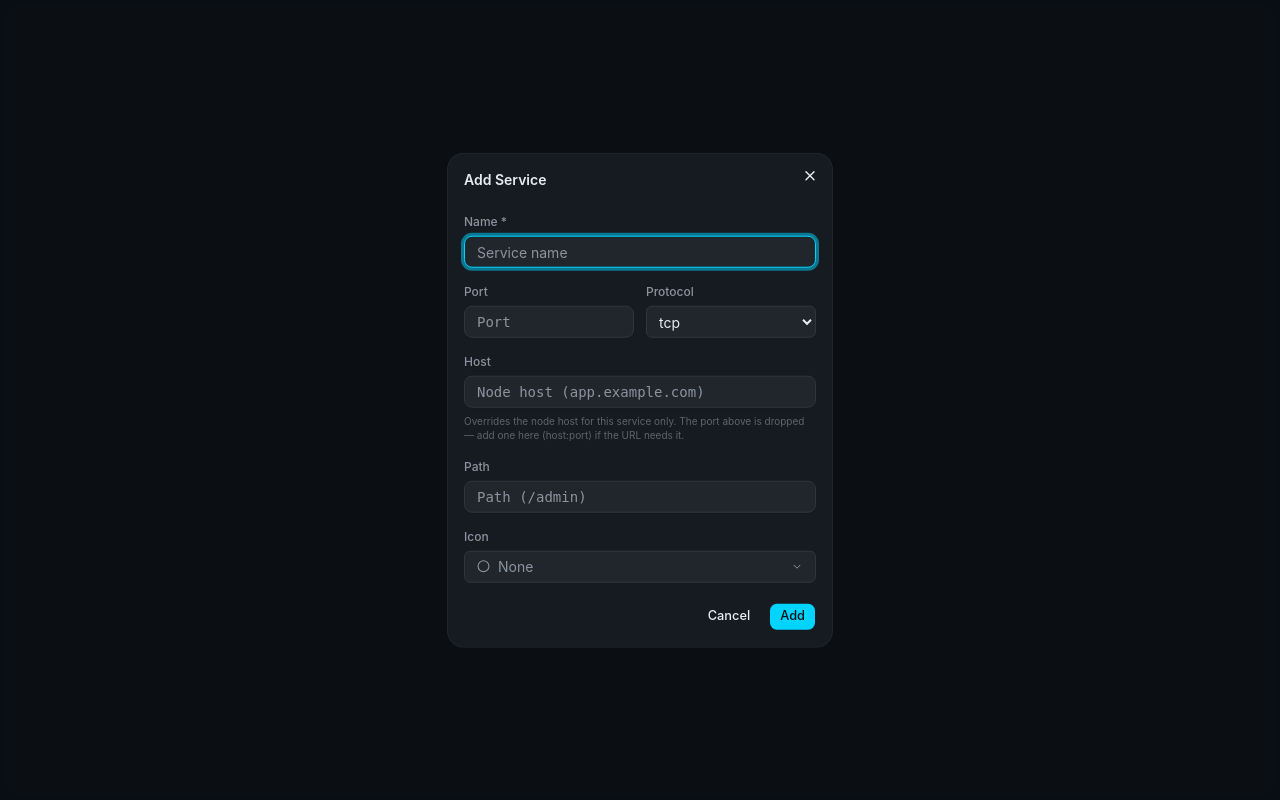
ServiceModal › form submission › clamps an out-of-range port on blur
The width and height of the screenshot is (1280, 800).
Step 1. Type "99999" into the field with placeholder "Port" → (549, 322), box [464,306,634,338]
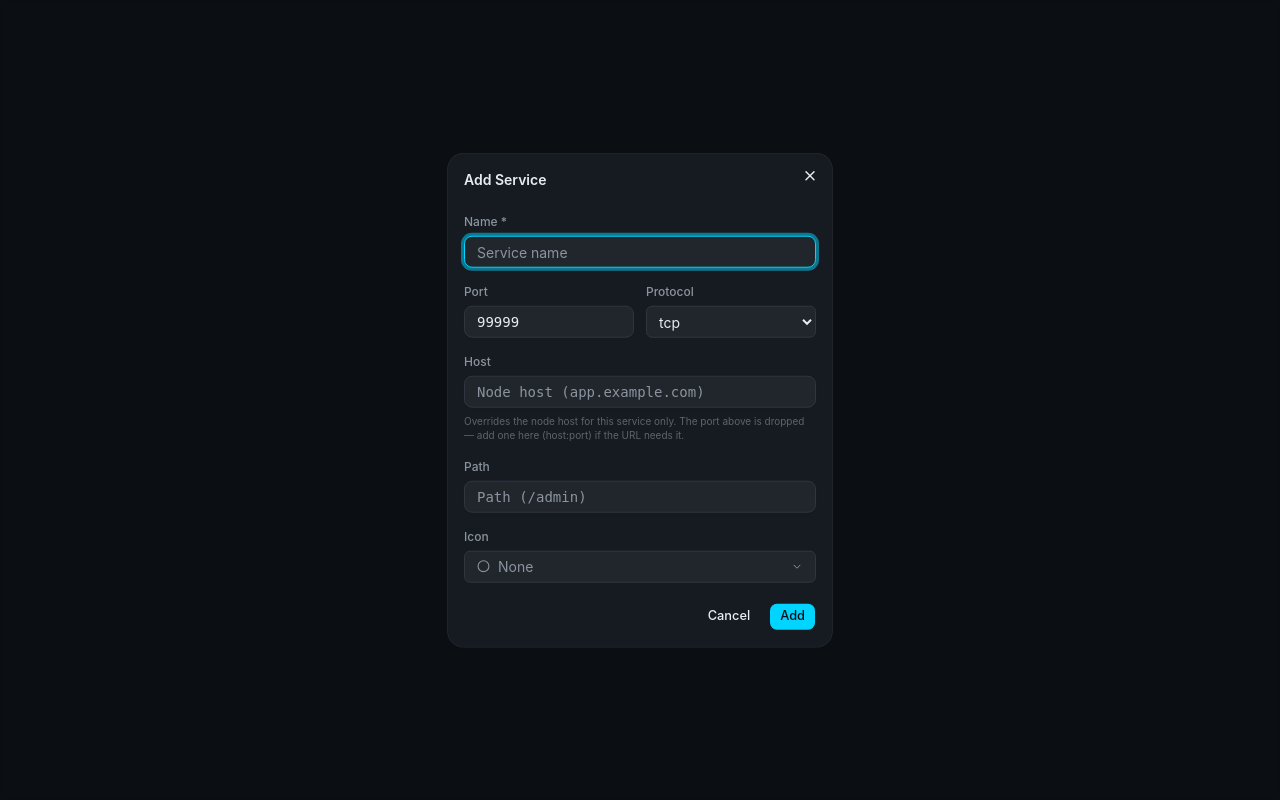
Step 2. Leave the field with placeholder "Port", box [464,306,634,338]
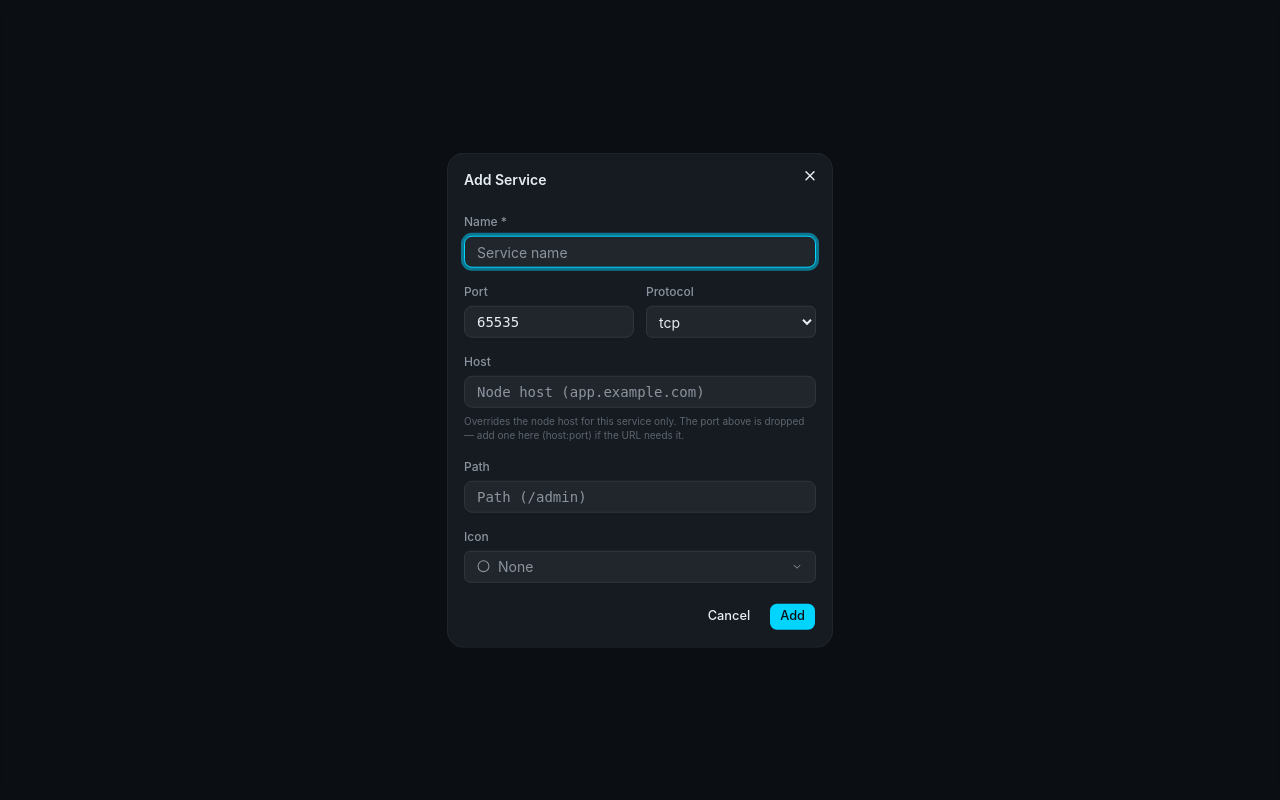
Now the field with placeholder "Port" holds "65535", box [464,306,634,338]
